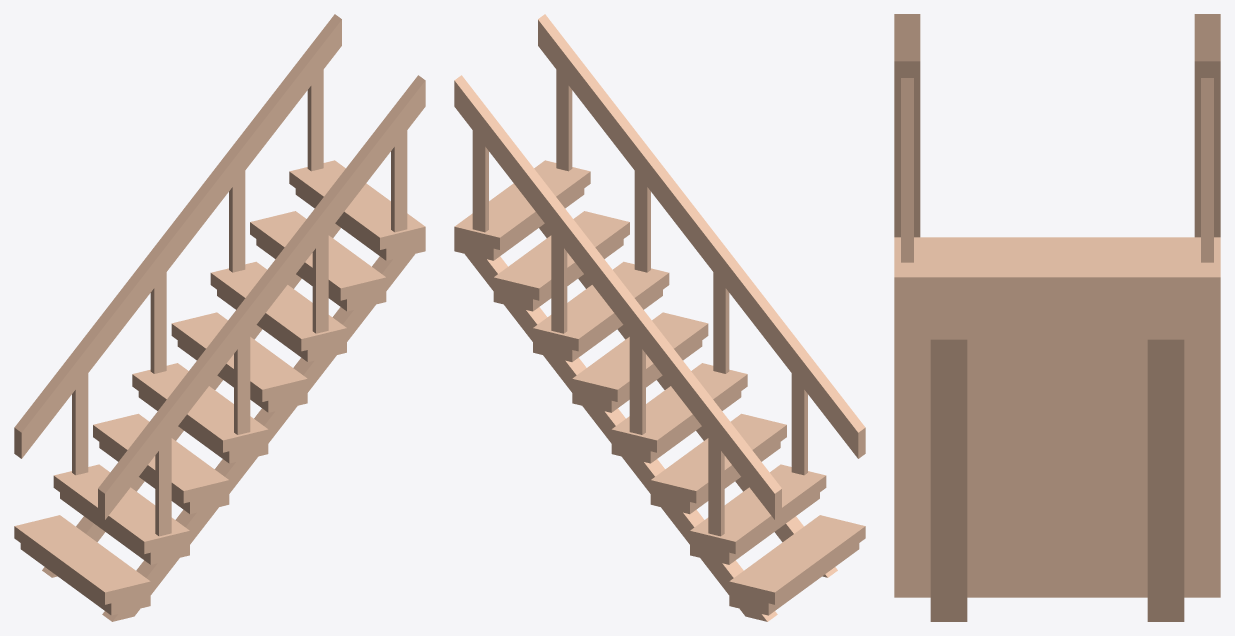
3 views of the same model, side by side, from view 1: azimuth 30°, elevation 25°; view 2: azimuth 150°, elevation 25°; view 3: azimuth 270°, elevation 25° (orthographic). The views are drawn at different scales.
Visible parts, largest first — view 1: stairsWoodHandrail, rail; view 2: stairsWoodHandrail, rail; view 3: stairsWoodHandrail, rail.
Boxes of the visible parts, bbox=[...] form: stairsWoodHandrail: bbox=[14, 160, 425, 621]; rail: bbox=[14, 14, 425, 536]; stairsWoodHandrail: bbox=[454, 160, 865, 621]; rail: bbox=[454, 14, 865, 536]; stairsWoodHandrail: bbox=[894, 237, 1220, 621]; rail: bbox=[894, 14, 1220, 262].
Size of the model in its own units: 1.02 by 1.44 by 0.5.
